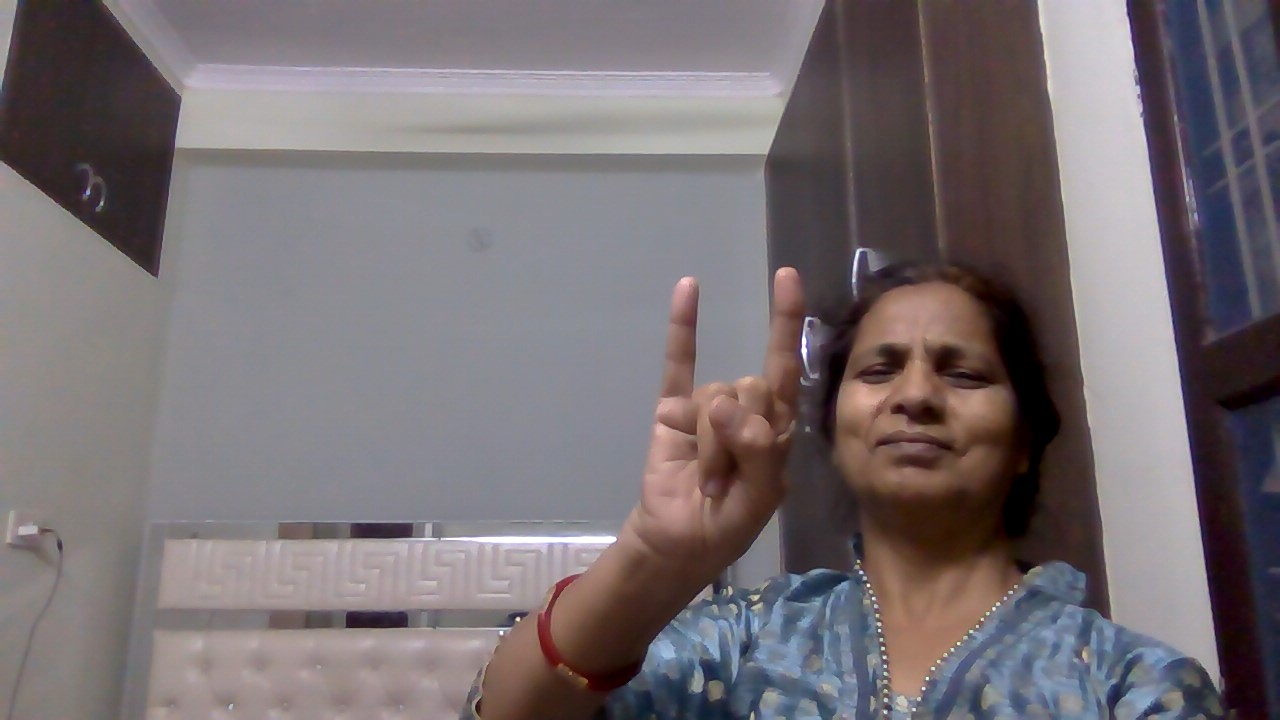Select All: (631, 260, 819, 580)
